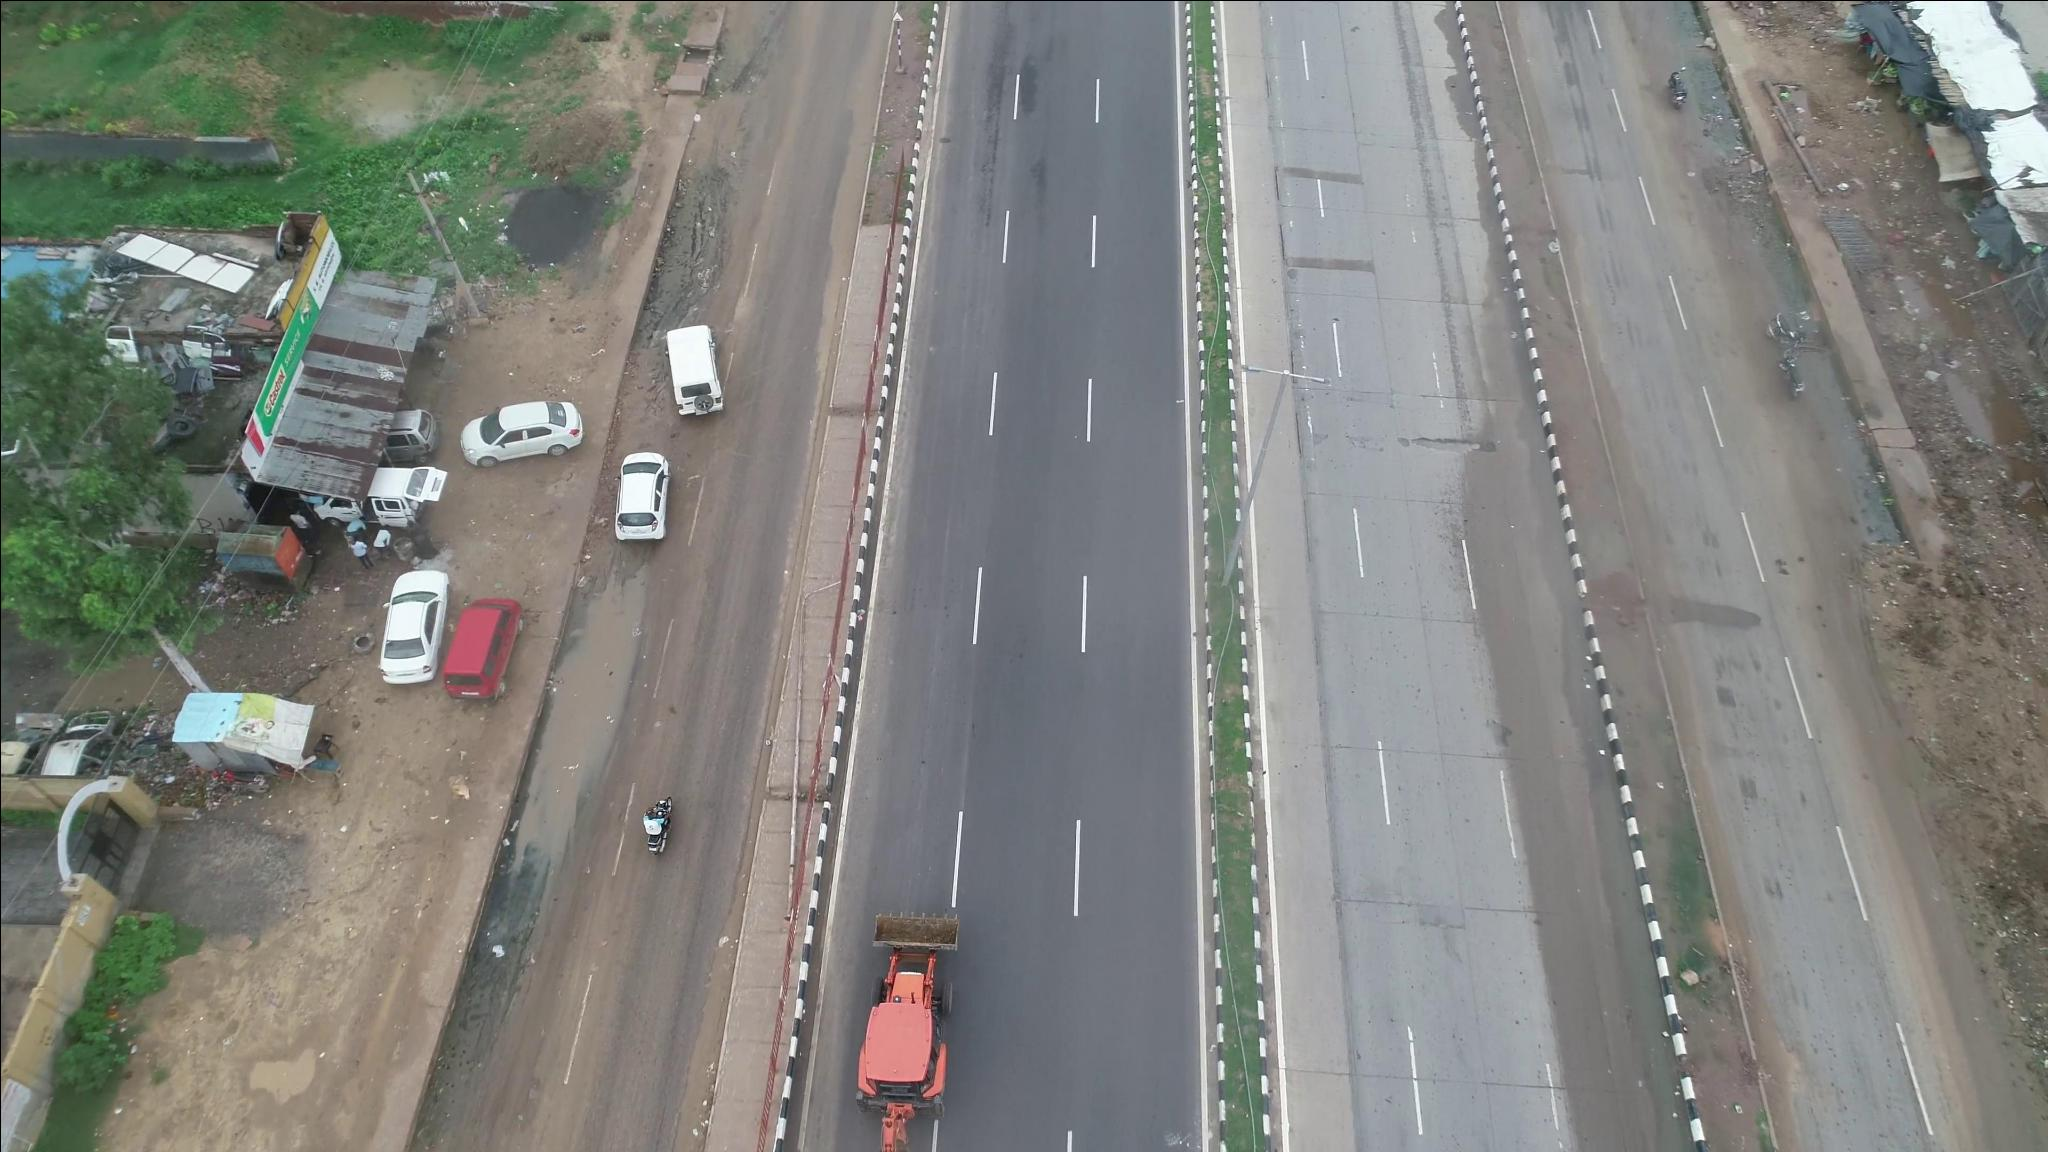Ravelling: (971, 34, 1011, 231)
